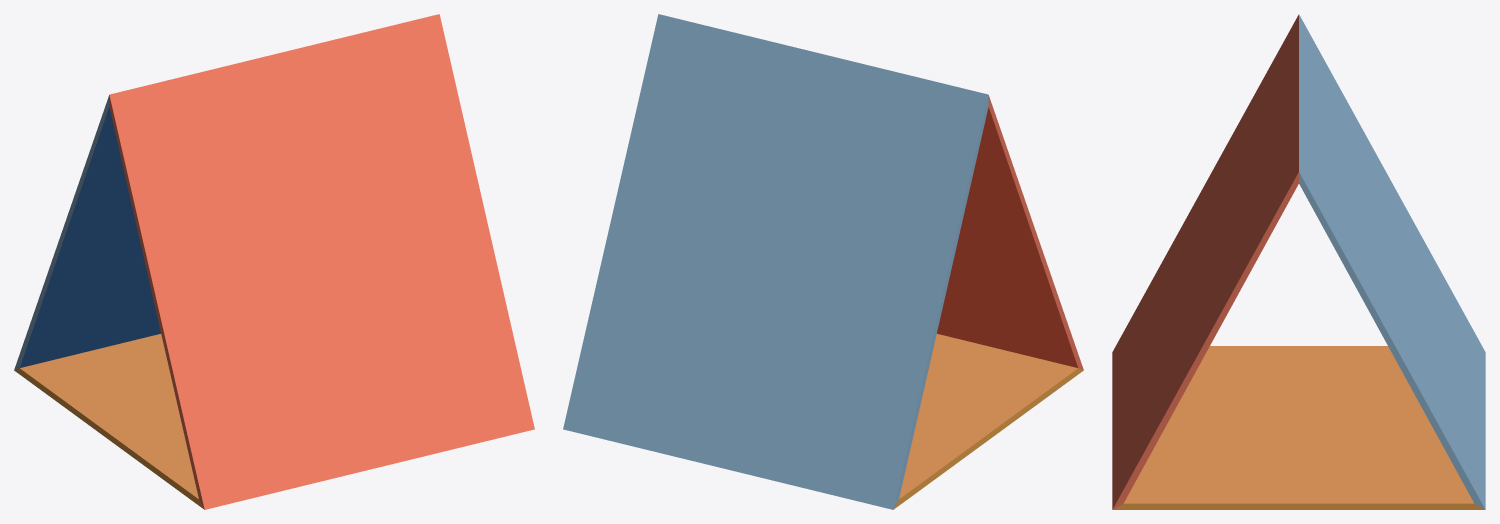
The model's file is QR_TableCard_02.glb.
3 renders of one model, left to right at view 1: azimuth 30°, elevation 25°; view 2: azimuth 150°, elevation 25°; view 3: azimuth 270°, elevation 25°, orthographic. The views are drawn at different scales.
Parts seen in each view (by area): view 1: QR_TableCard_02; view 2: QR_TableCard_02; view 3: QR_TableCard_02.
Boxes of the visible parts, bbox=[...] form: QR_TableCard_02: bbox=[14, 14, 534, 509]; QR_TableCard_02: bbox=[563, 14, 1083, 509]; QR_TableCard_02: bbox=[1112, 14, 1485, 509].
Size of what is drawn, in the model's own units: 0.3671 by 0.3671 by 0.3671.
1 material, 1 textured.
